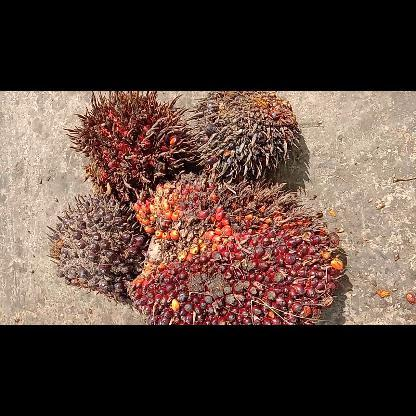Kurang masak: (48, 194, 146, 304)
TBS abnormal: (190, 91, 298, 181)
TBS masak: (130, 172, 346, 324)
Terlalu masak: (70, 91, 192, 199)
